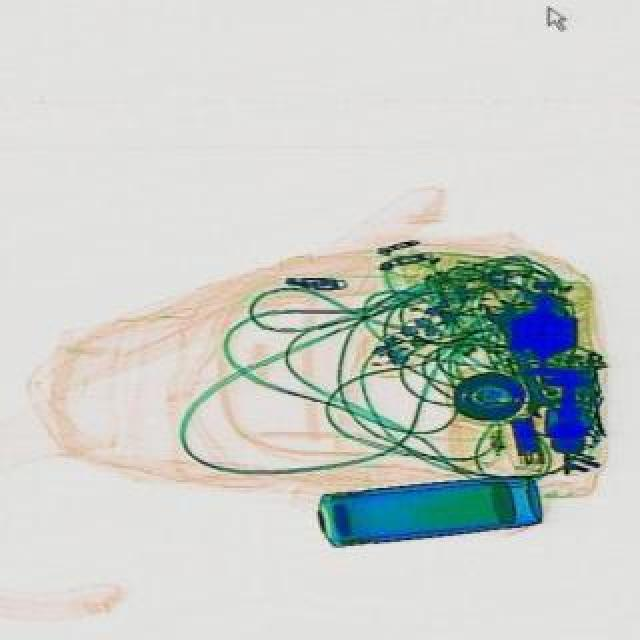scissors: (476, 294, 558, 420)
